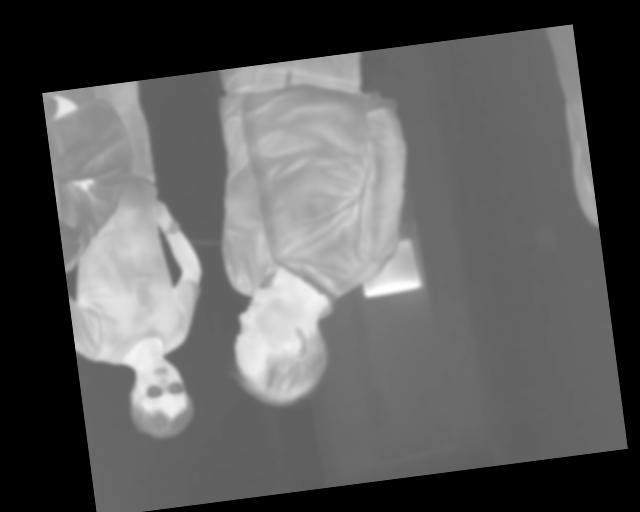face: (220, 280, 334, 413), (122, 354, 198, 443)
